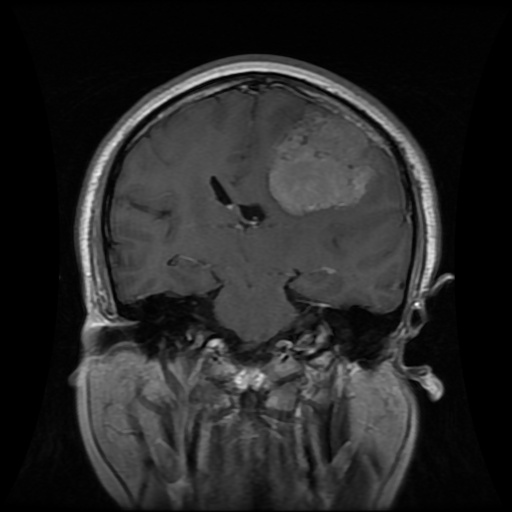meningioma: (268, 102, 377, 215)
